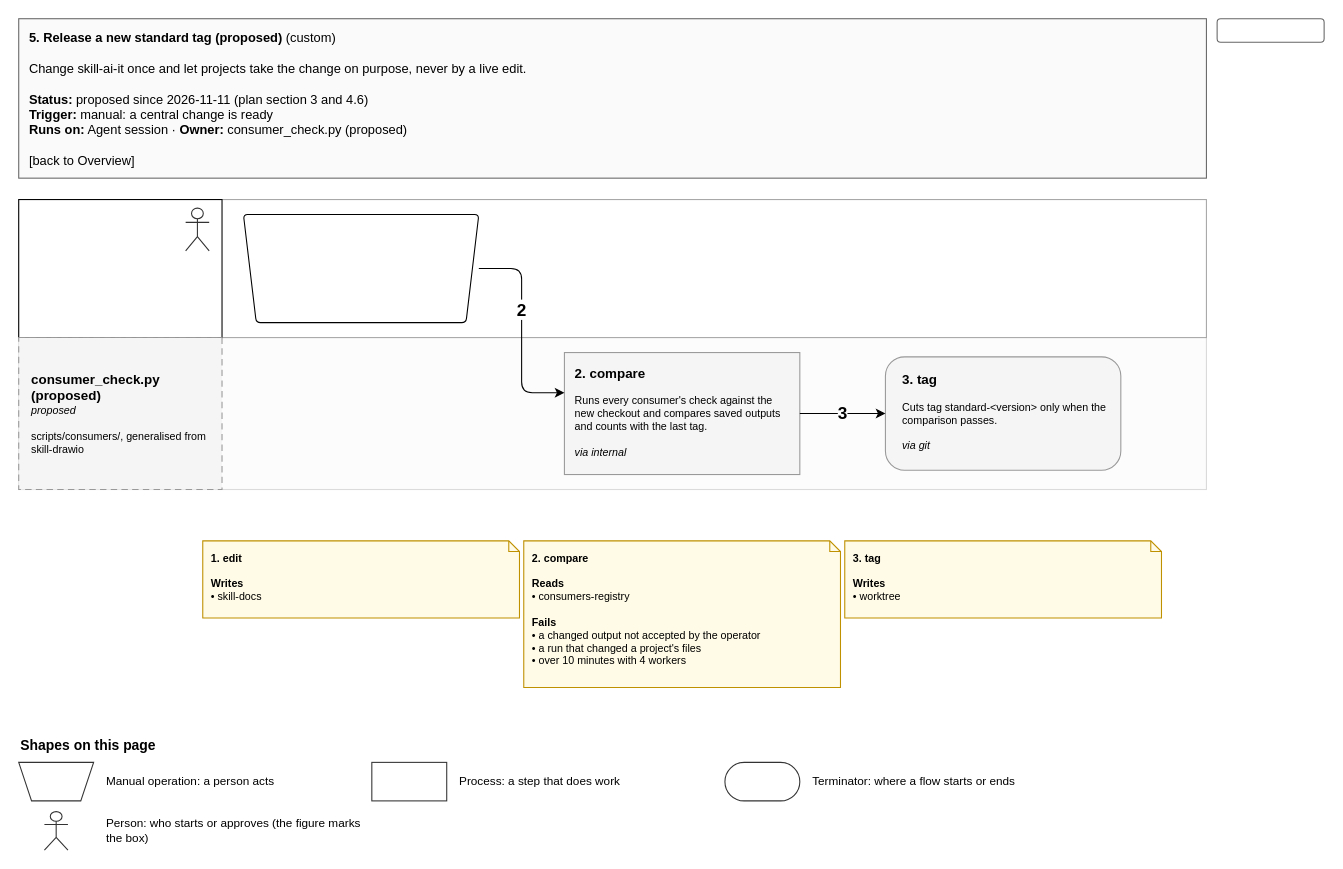
The diagram is 1343 pixels wide and 869 high, and some of its shapes have lost their labels. The shapes that lost their labels are listed below. From the top down, each one's box as (x1, y1, x2, y2) in pixels, then its label:
(1216, 18, 1324, 42): ‹ E2E page
(18, 198, 222, 338): Agent session person Claude Code or Codex in the project
(242, 213, 479, 323): 1. edit Edits skill-ai-it in its working folder, which no project runs. via file
